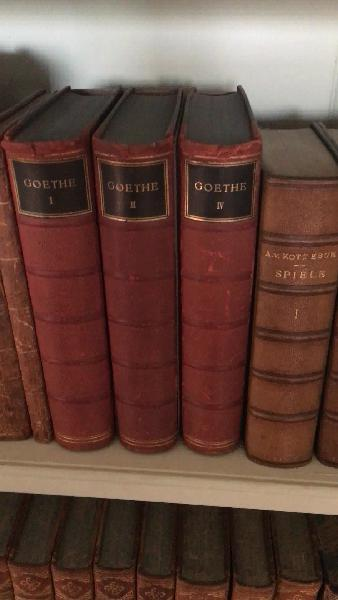Aa6-11_13: (1, 134, 254, 455)
Aa6-14_17: (250, 160, 338, 471)
